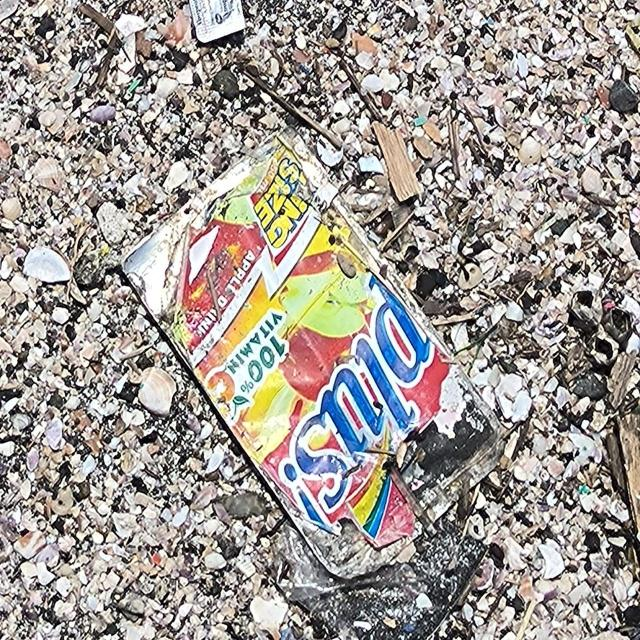plastic_waste: (124, 128, 506, 581)
